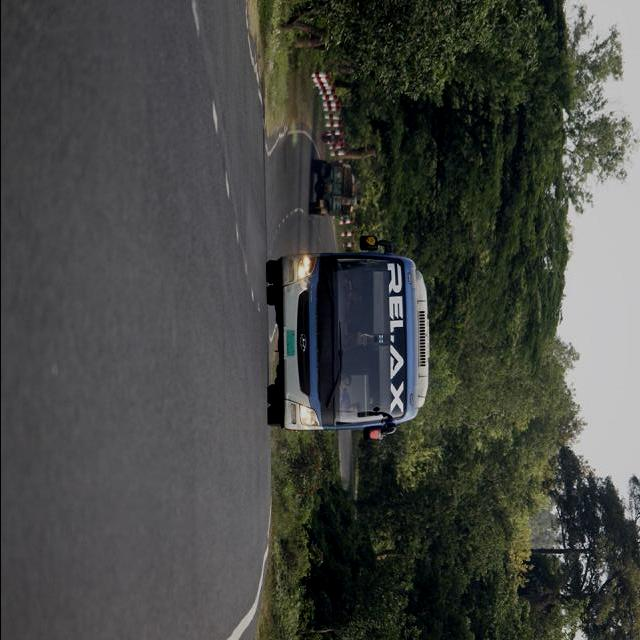bus: (264, 234, 431, 441)
